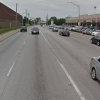Car: (19, 22, 41, 38)
